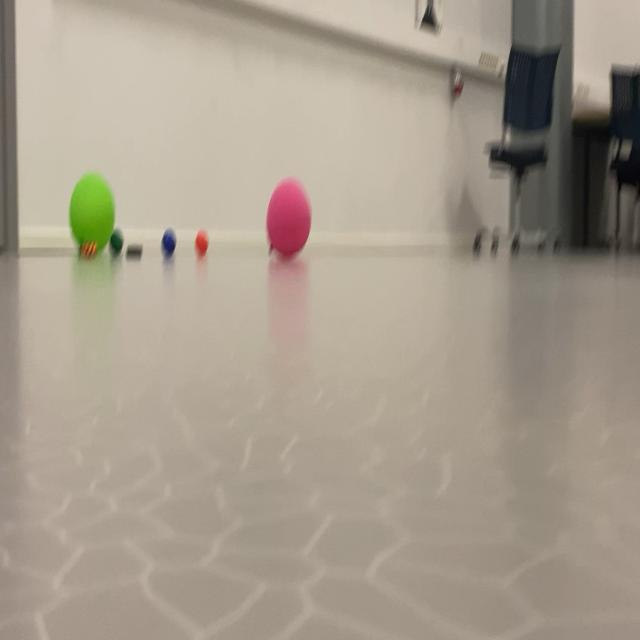7: (188, 197, 213, 271)
blue ball: (158, 216, 212, 272)
green ball: (155, 196, 178, 275)
red ball: (108, 219, 123, 274)
